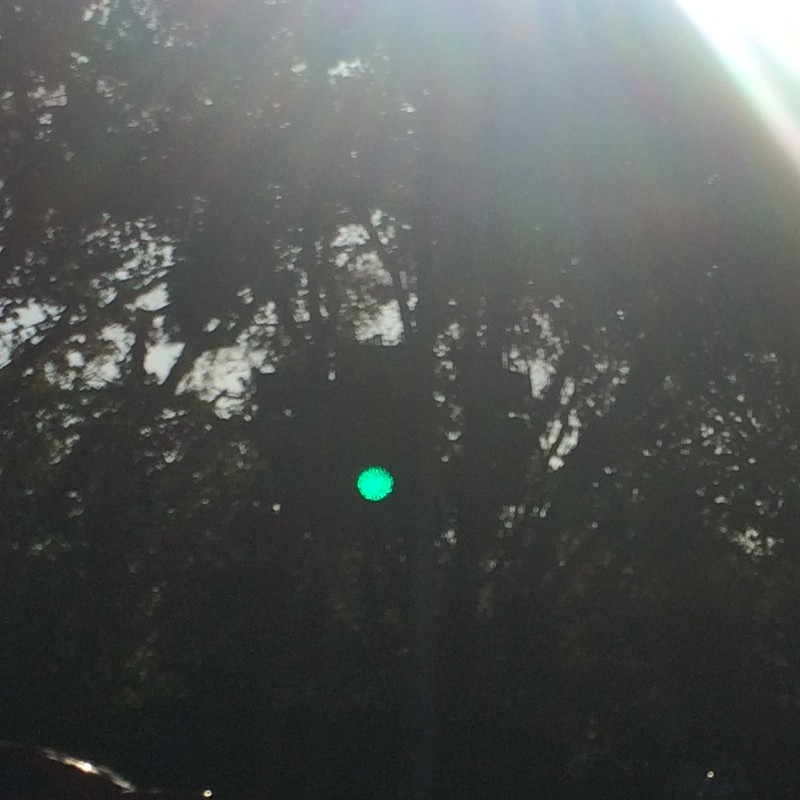go: (448, 577, 520, 630)
